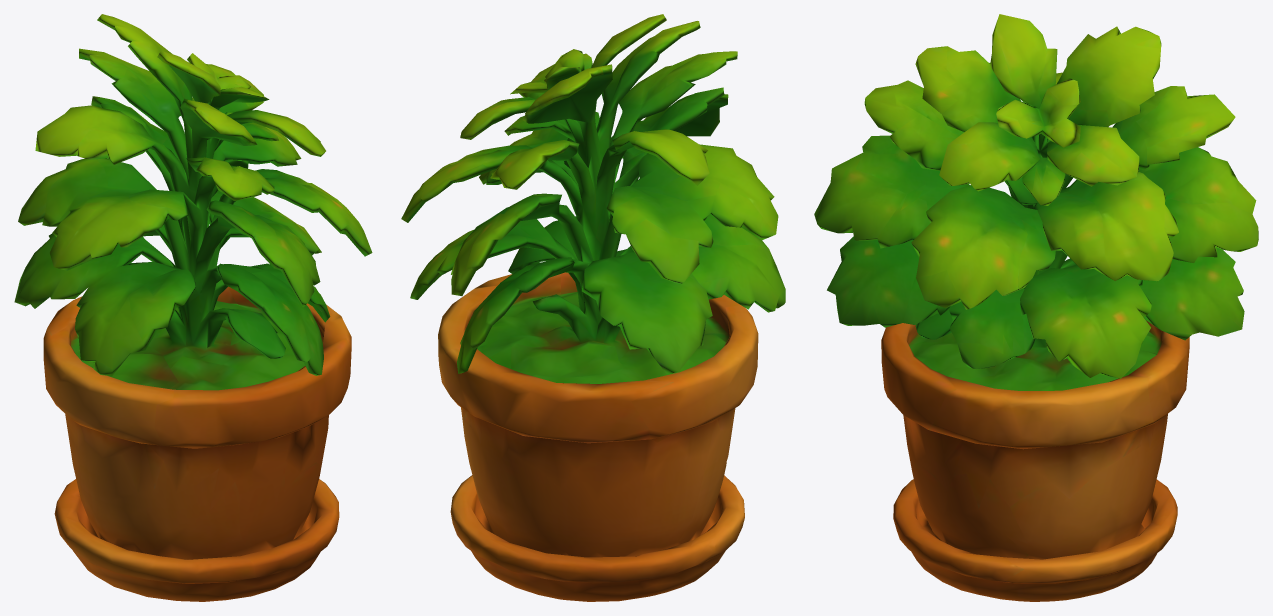
The model's file is potted_plant.glb.
3 renders of one model, left to right at view 1: azimuth 30°, elevation 25°; view 2: azimuth 150°, elevation 25°; view 3: azimuth 270°, elevation 25°, orthographic. The views are drawn at different scales.
Visible parts, largest first — view 1: tripo_node_71f8a84c-6e6d-40c6-af98-17556492b37c; view 2: tripo_node_71f8a84c-6e6d-40c6-af98-17556492b37c; view 3: tripo_node_71f8a84c-6e6d-40c6-af98-17556492b37c.
Boxes of the visible parts, x1,y1,x2,y2 form: tripo_node_71f8a84c-6e6d-40c6-af98-17556492b37c: [14, 14, 372, 601]; tripo_node_71f8a84c-6e6d-40c6-af98-17556492b37c: [401, 14, 785, 601]; tripo_node_71f8a84c-6e6d-40c6-af98-17556492b37c: [814, 14, 1258, 601].
Bounding box in the file's own units: 0.211 × 0.35 × 0.27.
Materials: 1 (1 with a texture image).
